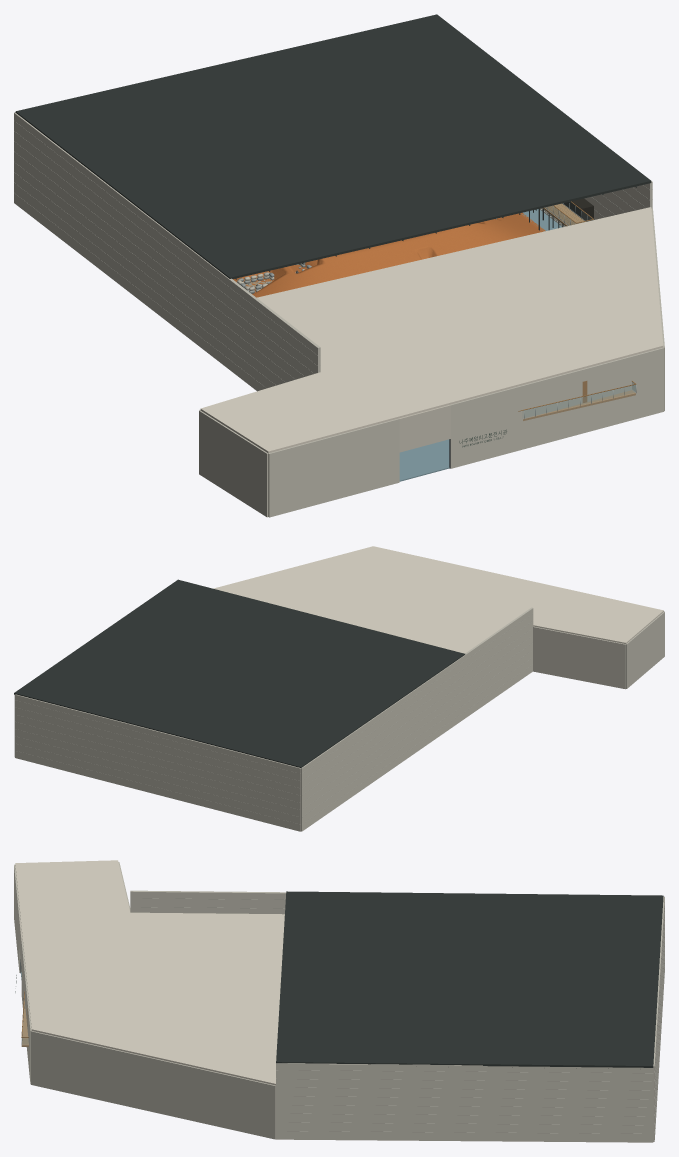
Rendered from bogam-museum.glb.
3 renders of one model, top to bottom at view 1: azimuth 30°, elevation 25°; view 2: azimuth 150°, elevation 25°; view 3: azimuth 270°, elevation 25°, orthographic. The views are drawn at different scales.
Visible parts, largest first — view 1: cutaway_main_roof, cutaway_visitor_roof, museum-wall_6_0, museum-wall_3_0, museum-wall_3_1, replica_excavation_surface, museum-wall_4_0, ground_floor_museum, entrance_lintel, museum-wall_1_0, cafe_glass_rail_glass.001; view 2: cutaway_main_roof, cutaway_visitor_roof, museum-wall_0_0, museum-wall_6_0, museum-wall_5_0, museum-wall_4_0; view 3: cutaway_main_roof, cutaway_visitor_roof, museum-wall_1_0, museum-wall_2_0, museum-wall_6_0, museum-wall_0_0, museum-wall_3_0, museum-wall_3_1.
Part boxes in pixels (x1,y1,x2,y2): cutaway_main_roof: (15, 14, 651, 278); cutaway_visitor_roof: (200, 207, 663, 453); museum-wall_6_0: (14, 112, 320, 391); museum-wall_3_0: (450, 347, 664, 468); museum-wall_3_1: (268, 418, 399, 517); replica_excavation_surface: (233, 212, 545, 297); museum-wall_4_0: (199, 410, 268, 517); ground_floor_museum: (399, 209, 561, 481); entrance_lintel: (399, 405, 450, 452); museum-wall_1_0: (584, 181, 652, 219); cafe_glass_rail_glass.001: (522, 385, 635, 417); cutaway_main_roof: (14, 579, 465, 767); cutaway_visitor_roof: (213, 546, 663, 653); museum-wall_0_0: (15, 694, 300, 831); museum-wall_6_0: (301, 607, 533, 831); museum-wall_5_0: (533, 626, 625, 689); museum-wall_4_0: (626, 612, 664, 688); cutaway_main_roof: (276, 891, 663, 1067); cutaway_visitor_roof: (15, 860, 284, 1085); museum-wall_1_0: (276, 1063, 653, 1142); museum-wall_2_0: (31, 1031, 275, 1139); museum-wall_6_0: (130, 890, 286, 914); museum-wall_0_0: (653, 896, 664, 1141); museum-wall_3_0: (21, 941, 31, 1084); museum-wall_3_1: (14, 864, 21, 972).
Size of what is drawn, in the model's own units: 67.71 by 10.65 by 81.57.
Materials: 72 (1 with a texture image).
